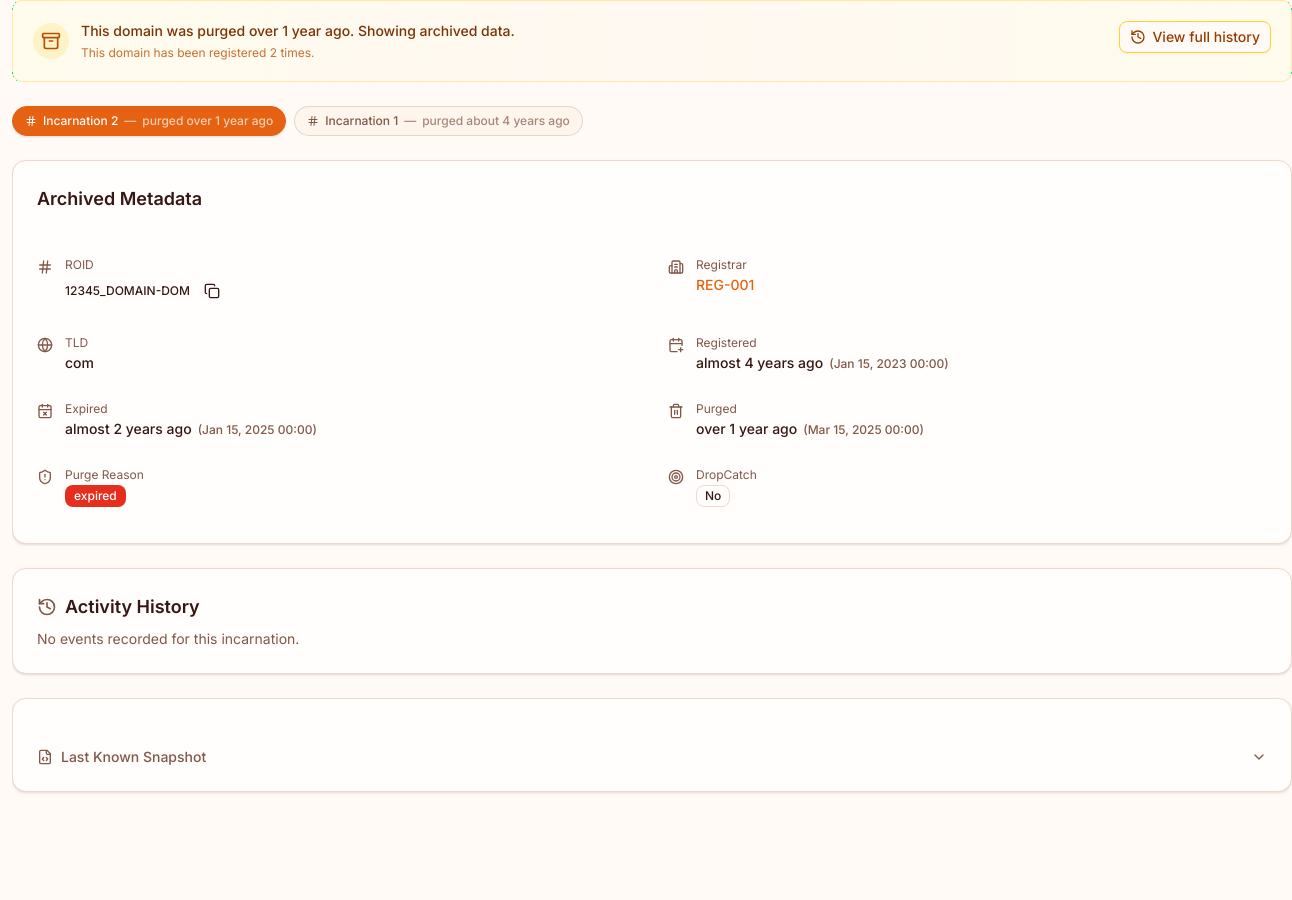
Test: ArchivedDomainView › switches incarnation when clicking picker
The width and height of the screenshot is (1292, 900).
Click the button "Incarnation 1 — purged about 4 years ago": (439,121) 294,106 -> 583,136
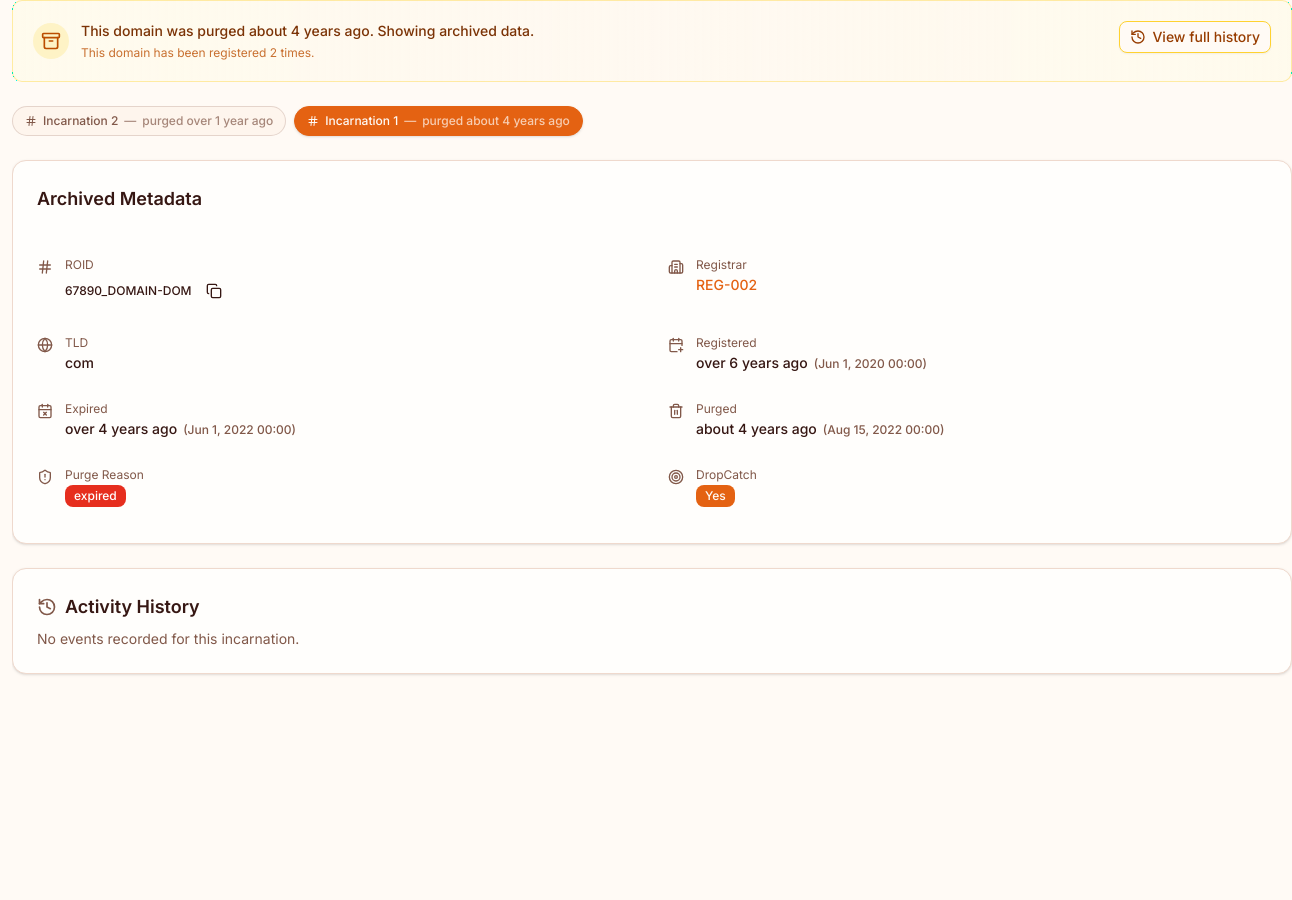
Now the text "67890_DOMAIN-DOM" is shown, box 65,283 -> 192,299
